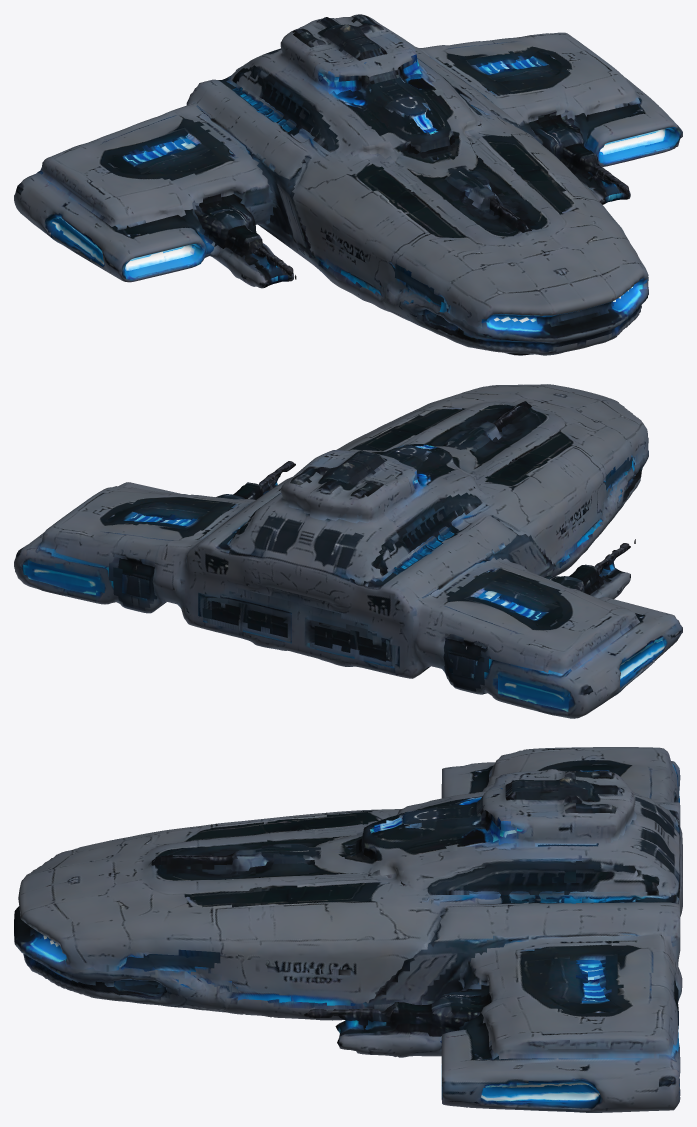
The model's file is alliance_destroyer.glb.
3 renders of one model, top to bottom at view 1: azimuth 30°, elevation 25°; view 2: azimuth 150°, elevation 25°; view 3: azimuth 270°, elevation 25°, orthographic. The views are drawn at different scales.
Visible parts, largest first — view 1: model; view 2: model; view 3: model.
Part boxes in pixels (x1=…): model: x1=14, y1=14, x2=682, y2=355; model: x1=14, y1=384, x2=682, y2=718; model: x1=14, y1=747, x2=682, y2=1112.
Size of the model in its own units: 1.9 by 0.5112 by 1.65.
1 material, 1 textured.
